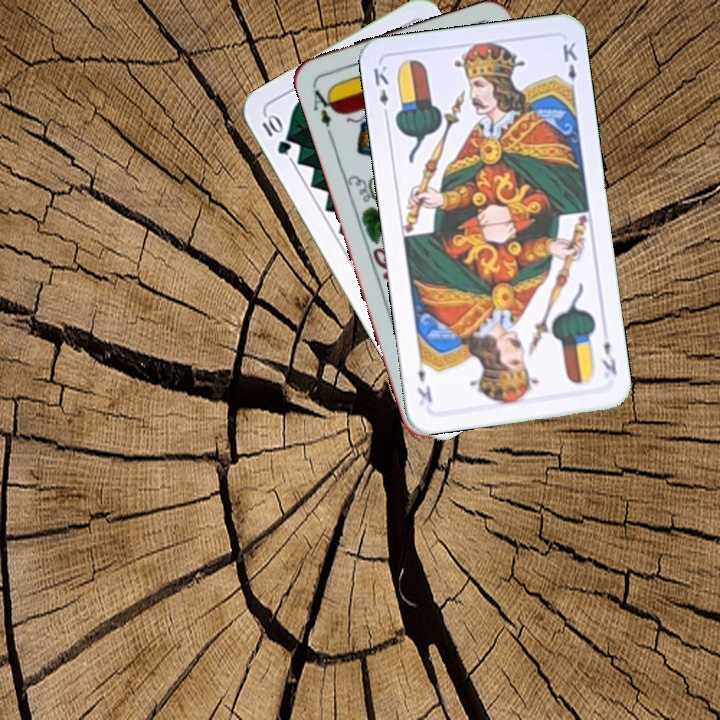EA: (309, 81, 339, 139)
EK: (369, 61, 392, 121), (598, 337, 620, 378)
G10: (257, 109, 294, 157)
